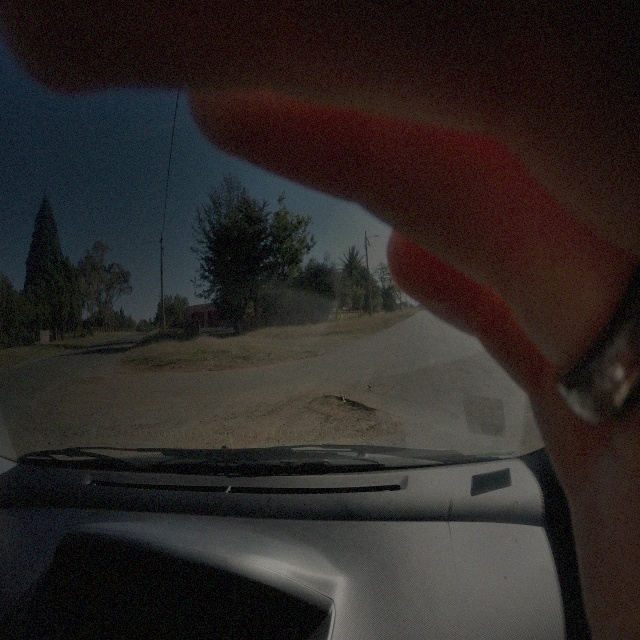pothole: (307, 391, 377, 428), (67, 376, 102, 385)
